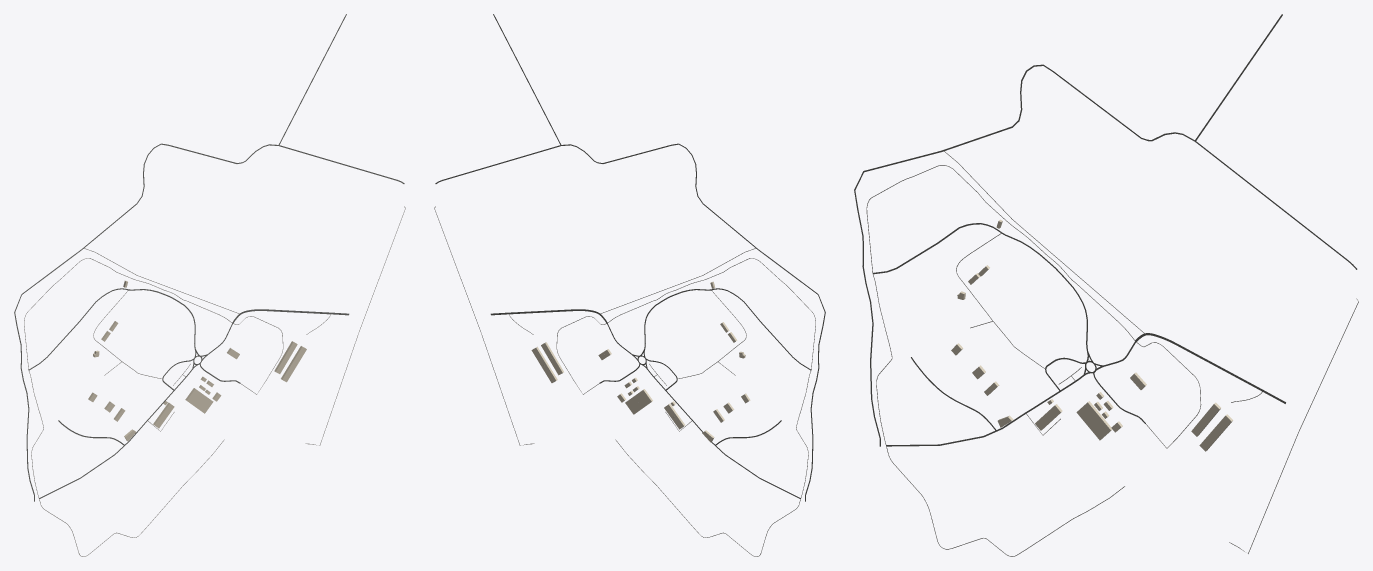
Rendered from historic-palestine-02_19_3440_3135.glb.
The picture shows the model from 3 angles, left to right: view 1: azimuth 30°, elevation 25°; view 2: azimuth 150°, elevation 25°; view 3: azimuth 330°, elevation 25°; orthographic projection. The views are drawn at different scales.
Parts seen in each view (by area): view 1: Road .021, Road .018; view 2: Road .021, Road .018; view 3: Road .021, Road .018, Building_.
Part boxes in pixels (x1,y1,x2,y2): Road .021: (14, 143, 278, 501); Road .018: (24, 258, 232, 556); Road .021: (561, 143, 825, 501); Road .018: (607, 258, 815, 556); Road .021: (854, 64, 1194, 446); Road .018: (866, 165, 1135, 556); Building_: (1076, 401, 1112, 440).
Size of the model in its own units: 1202 by 1405 by 8.7.
